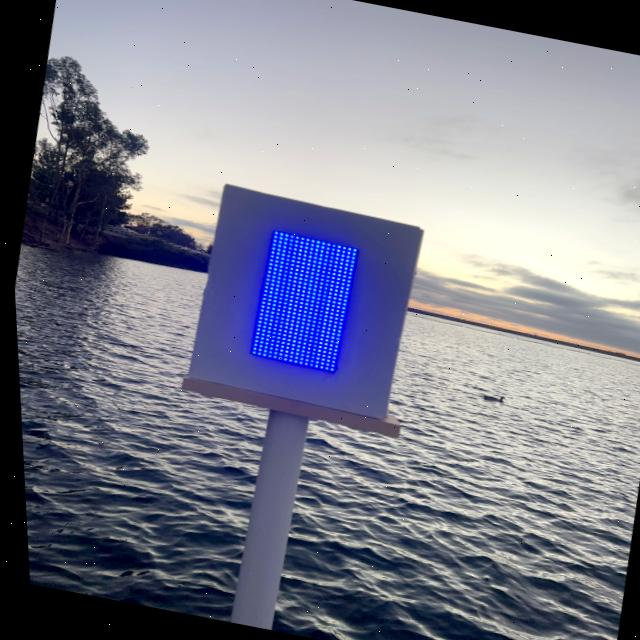led: (208, 202, 388, 410)
